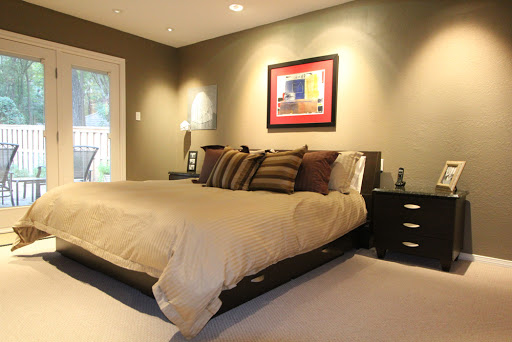bed: (52, 145, 381, 322)
frame: (267, 57, 340, 130)
night stand: (374, 187, 468, 273)
